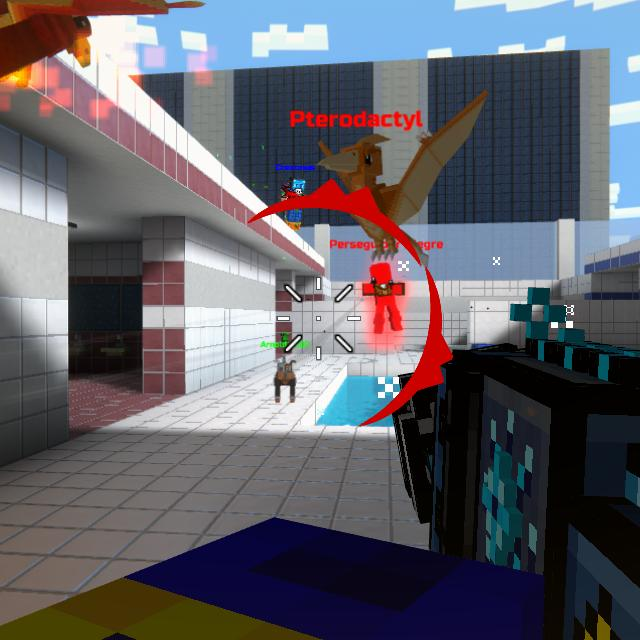Enemy: (360, 268, 404, 333)
